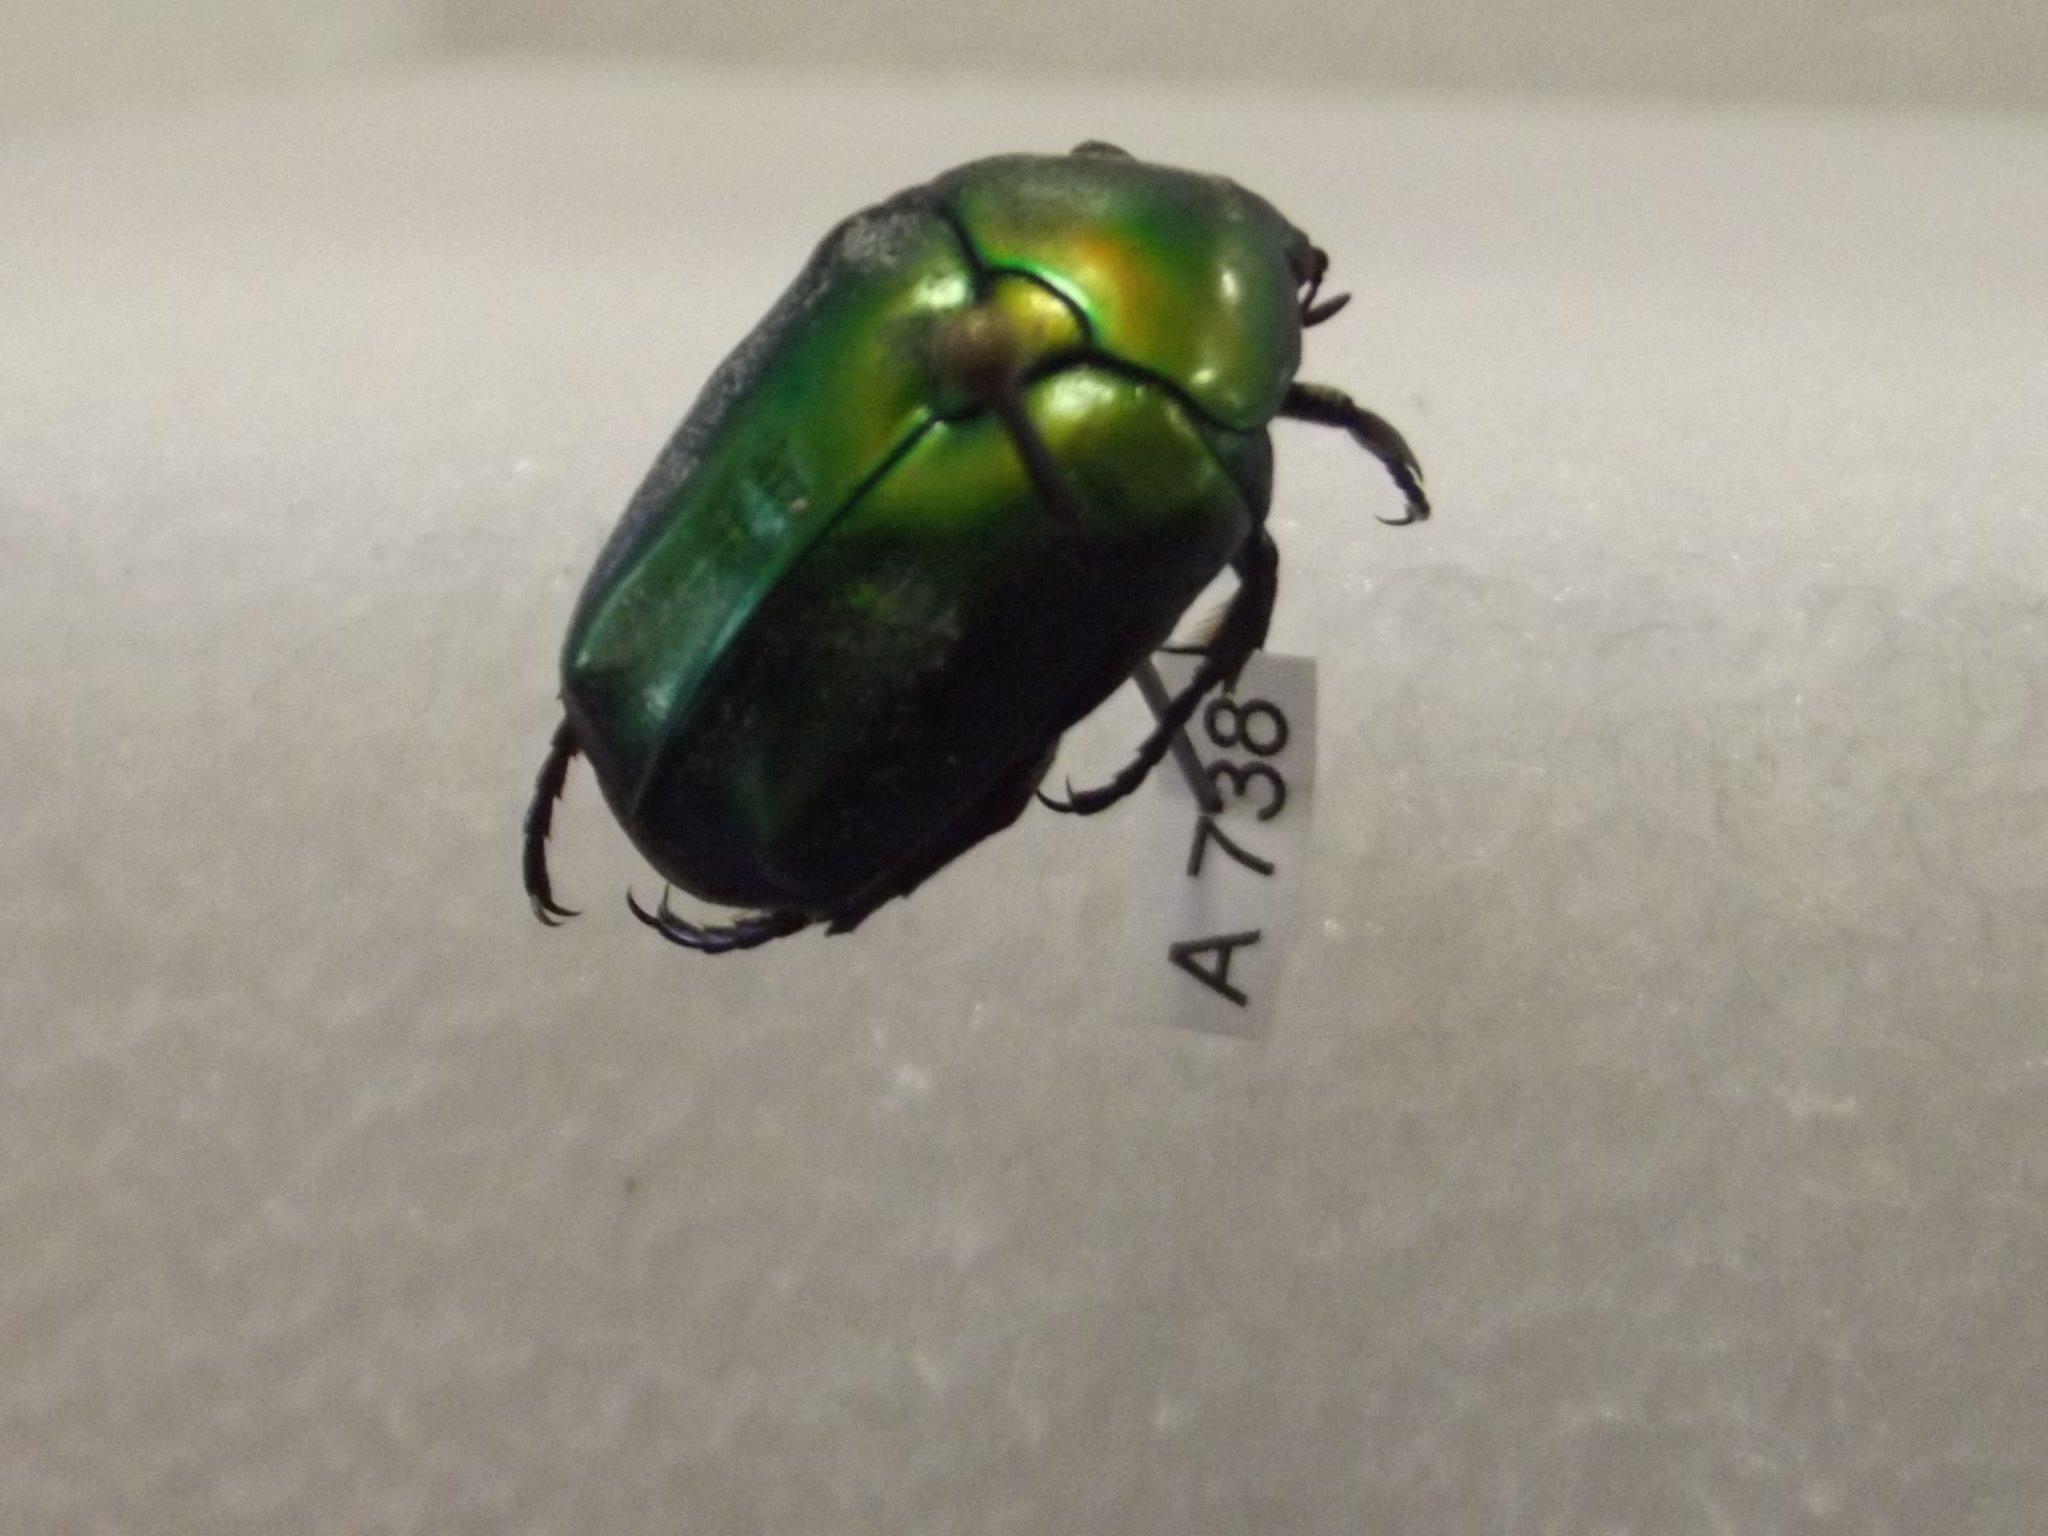Protaetia_cuprea_ignicollis: (505, 131, 1451, 989)
